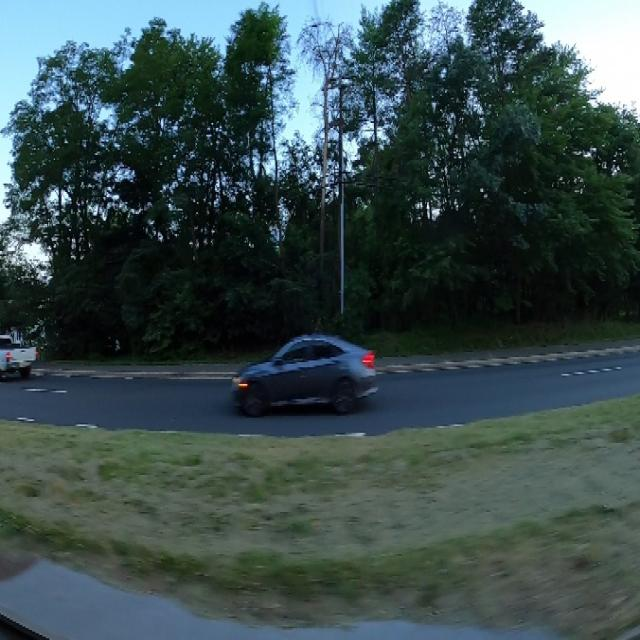car: (226, 333, 388, 423), (0, 325, 53, 392)
